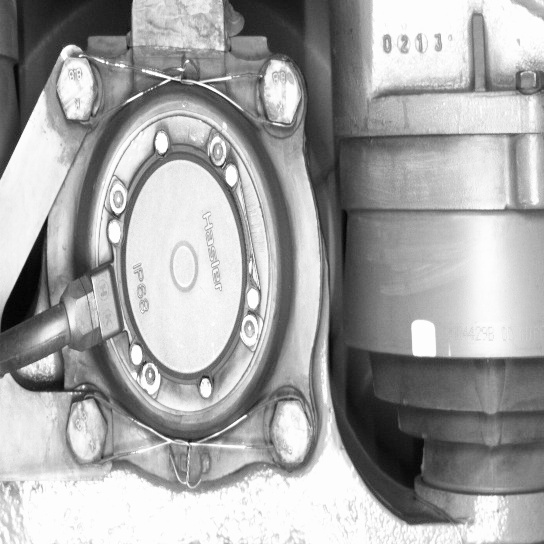IronWire: (59, 389, 318, 476), (52, 51, 305, 134)
Screw: (263, 389, 317, 476), (59, 391, 113, 472), (253, 52, 306, 133), (50, 51, 102, 127)
